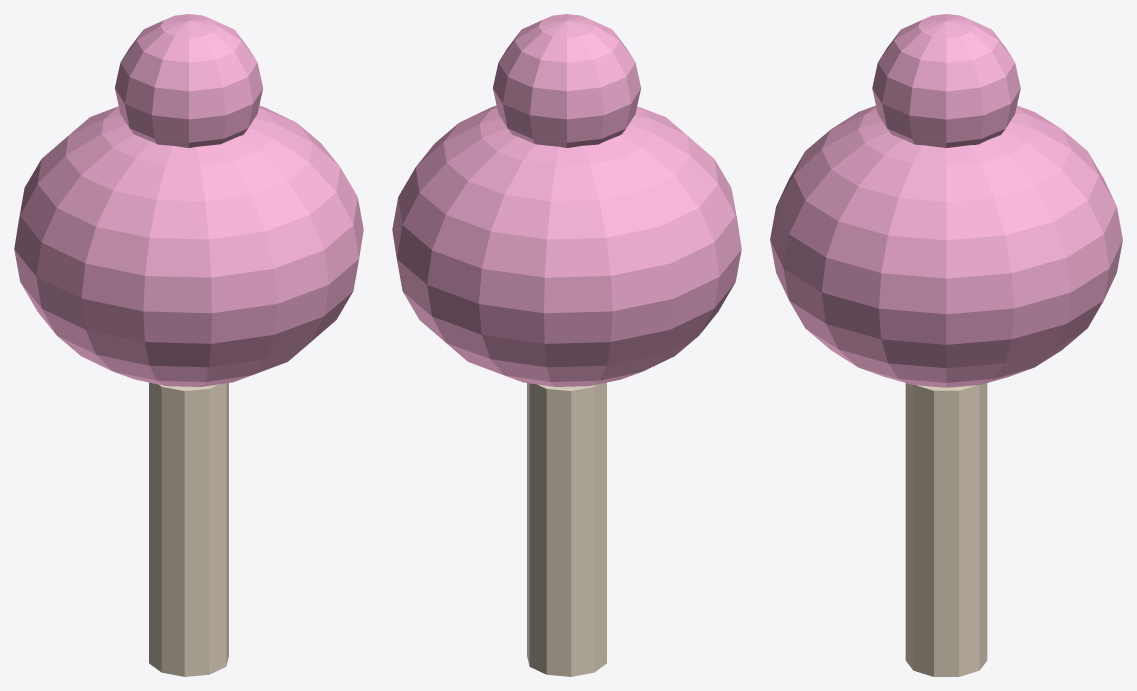
Rendered from tree_candy.glb.
3 renders of one model, left to right at view 1: azimuth 30°, elevation 25°; view 2: azimuth 150°, elevation 25°; view 3: azimuth 270°, elevation 25°, orthographic.
Visible parts, largest first — view 1: tree_candy; view 2: tree_candy; view 3: tree_candy.
Boxes of the visible parts, x1,y1,x2,y2 form: tree_candy: (14,14,363,676); tree_candy: (392,14,741,676); tree_candy: (770,14,1122,676).
Bounding box in the file's own units: 1.9 × 3.8 × 1.9.
